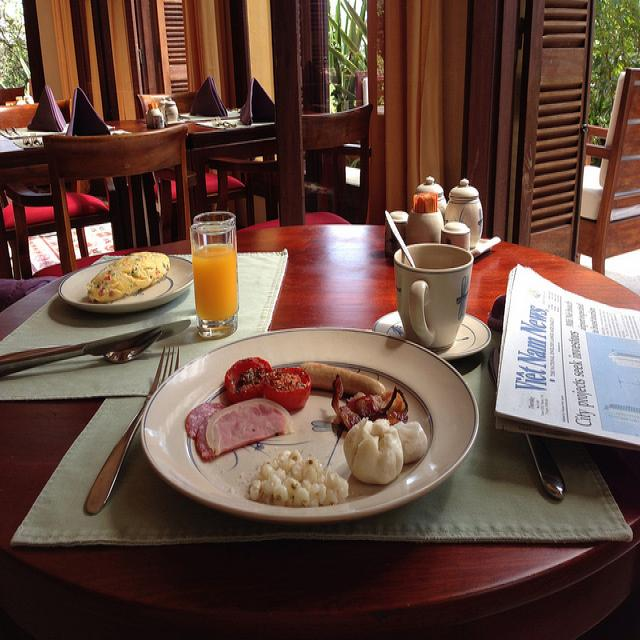chair: (41, 121, 194, 280), (1, 98, 110, 279), (576, 67, 640, 275), (302, 100, 372, 221), (206, 156, 280, 231), (136, 92, 198, 119), (0, 86, 25, 106)
dining table: (0, 176, 640, 630), (0, 77, 277, 169)
